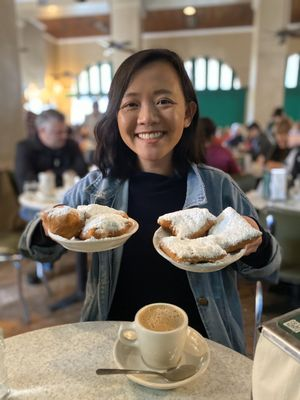pizza: (117, 302, 189, 370), (251, 307, 300, 400)
salad: (95, 363, 196, 378)
soup: (154, 206, 263, 267)
